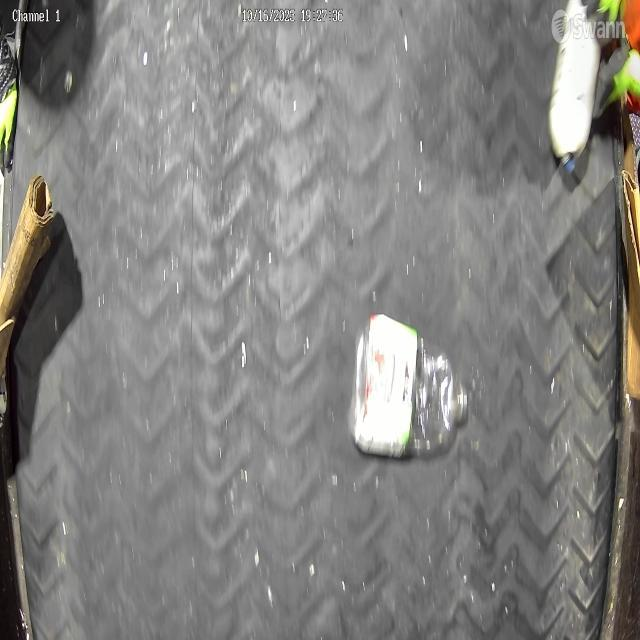plastic_bottle: (346, 312, 469, 458)
